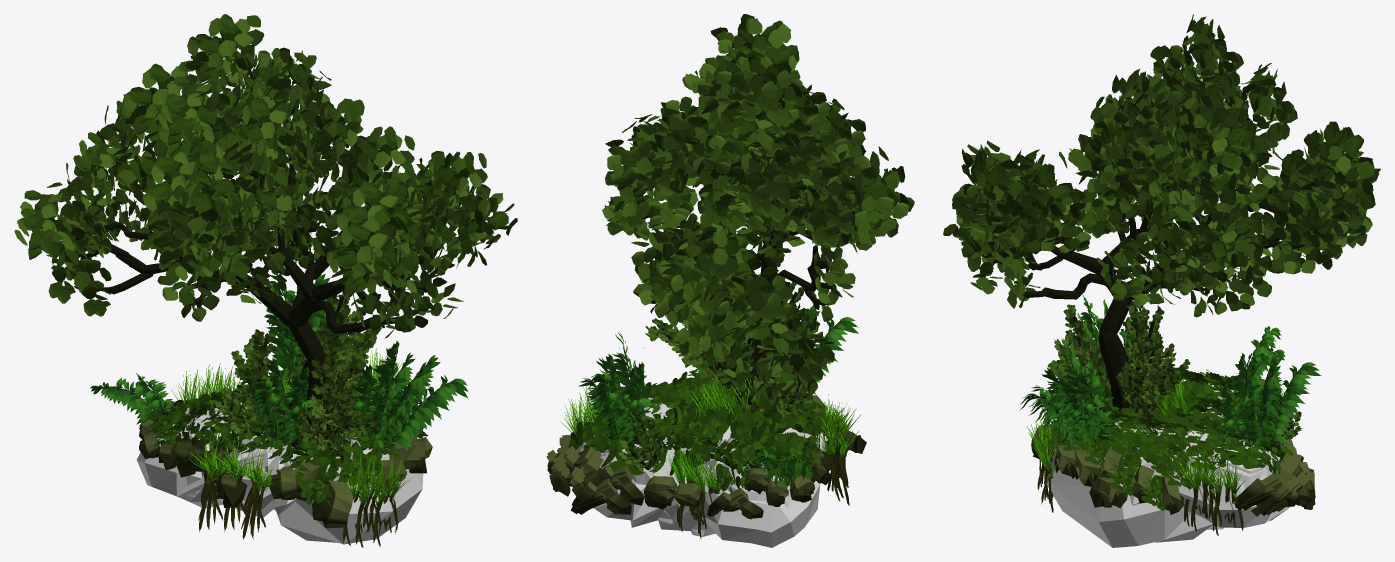
File: Island3.fbx
3 views of the same model, side by side, from view 1: azimuth 30°, elevation 25°; view 2: azimuth 150°, elevation 25°; view 3: azimuth 270°, elevation 25° (orthographic). The views are drawn at different scales.
Visible parts, largest first — view 1: TreeLeaves1, SkinnyBushes, BushLeaves2, Moss1, Base1, Grasslet1, TreeBase, Rocks2; view 2: TreeLeaves1, Moss1, Rocks2, Base1, SkinnyBushes, Grasslet1, BushLeaves2, TreeBase; view 3: TreeLeaves1, Moss1, SkinnyBushes, Base1, BushLeaves2, Rocks2, TreeBase, Grasslet1.
Part boxes in pixels (left/top/right/bottom): TreeLeaves1: left=14, top=14, right=517, bottom=338; SkinnyBushes: left=90, top=271, right=468, bottom=456; BushLeaves2: left=216, top=291, right=415, bottom=456; Moss1: left=148, top=361, right=428, bottom=504; Base1: left=136, top=378, right=423, bottom=544; Grasslet1: left=171, top=348, right=411, bottom=547; TreeBase: left=62, top=157, right=427, bottom=451; Rocks2: left=139, top=370, right=432, bottom=528; TreeLeaves1: left=602, top=14, right=914, bottom=408; Moss1: left=568, top=370, right=827, bottom=492; Rocks2: left=546, top=377, right=866, bottom=519; Base1: left=577, top=397, right=825, bottom=547; SkinnyBushes: left=578, top=304, right=858, bottom=490; Grasslet1: left=559, top=362, right=861, bottom=538; BushLeaves2: left=619, top=281, right=817, bottom=471; TreeBase: left=642, top=175, right=835, bottom=411; TreeLeaves1: left=943, top=14, right=1380, bottom=317; Moss1: left=1039, top=369, right=1293, bottom=510; SkinnyBushes: left=1019, top=295, right=1321, bottom=452; Base1: left=1046, top=383, right=1290, bottom=547; BushLeaves2: left=1046, top=298, right=1302, bottom=444; Rocks2: left=1031, top=377, right=1315, bottom=516; TreeBase: left=983, top=183, right=1335, bottom=415; Grasslet1: left=1026, top=363, right=1283, bottom=535.
Bounding box in the file's own units: 36.61 × 55.32 × 45.51.
